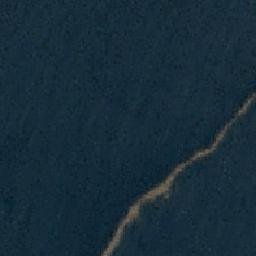debris: (234, 94, 254, 113), (105, 229, 122, 249), (203, 140, 221, 156), (153, 183, 170, 199), (138, 191, 152, 207), (127, 204, 139, 222), (164, 169, 178, 184), (117, 214, 130, 230), (216, 127, 228, 142), (227, 116, 237, 130), (190, 152, 204, 161), (177, 162, 190, 170)
